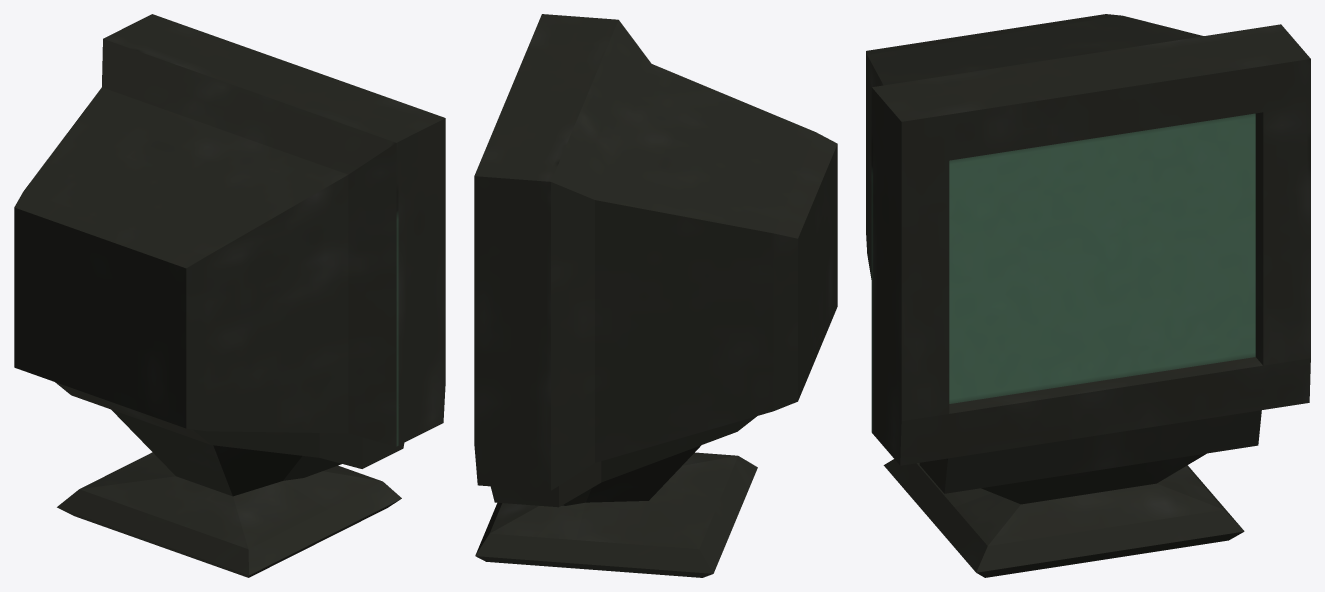
Rendered from monitor_noJoin.fbx.
3 views of the same model, side by side, from view 1: azimuth 30°, elevation 25°; view 2: azimuth 150°, elevation 25°; view 3: azimuth 270°, elevation 25° (orthographic). The views are drawn at different scales.
Parts seen in each view (by area): view 1: Monitor; view 2: Monitor; view 3: Monitor.
Part boxes in pixels (left/top/right/bottom): Monitor: left=14, top=14, right=445, bottom=577; Monitor: left=474, top=14, right=837, bottom=577; Monitor: left=866, top=14, right=1310, bottom=577.
Size of the model in its own units: 148 by 171 by 147.
1 material, 1 textured.
